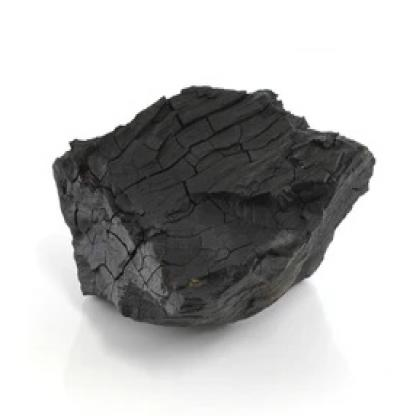Sedimentary_coal: (35, 70, 375, 356)
